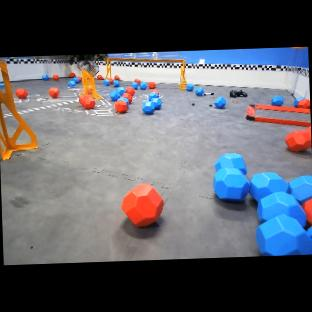Goal: (0, 57, 38, 160), (77, 60, 101, 99)
V5_BLUE: (142, 101, 155, 114), (151, 98, 162, 109), (195, 87, 204, 96), (158, 99, 158, 99)
V5_RED: (120, 183, 165, 229)
